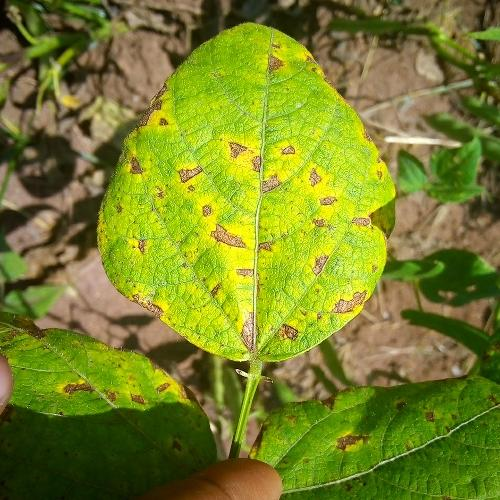hawar: (191, 200, 276, 259), (220, 136, 296, 194), (151, 154, 211, 208), (231, 312, 310, 353), (319, 279, 368, 321), (134, 81, 174, 130), (57, 366, 112, 400), (122, 380, 178, 412), (329, 427, 380, 455), (100, 291, 172, 309), (258, 37, 289, 74), (302, 245, 329, 286), (362, 124, 382, 178), (121, 149, 150, 175), (124, 231, 154, 255), (341, 211, 373, 230), (420, 405, 443, 428), (304, 166, 324, 189), (308, 211, 329, 230), (390, 397, 409, 413), (164, 438, 182, 452), (320, 192, 336, 205), (110, 201, 124, 212)
